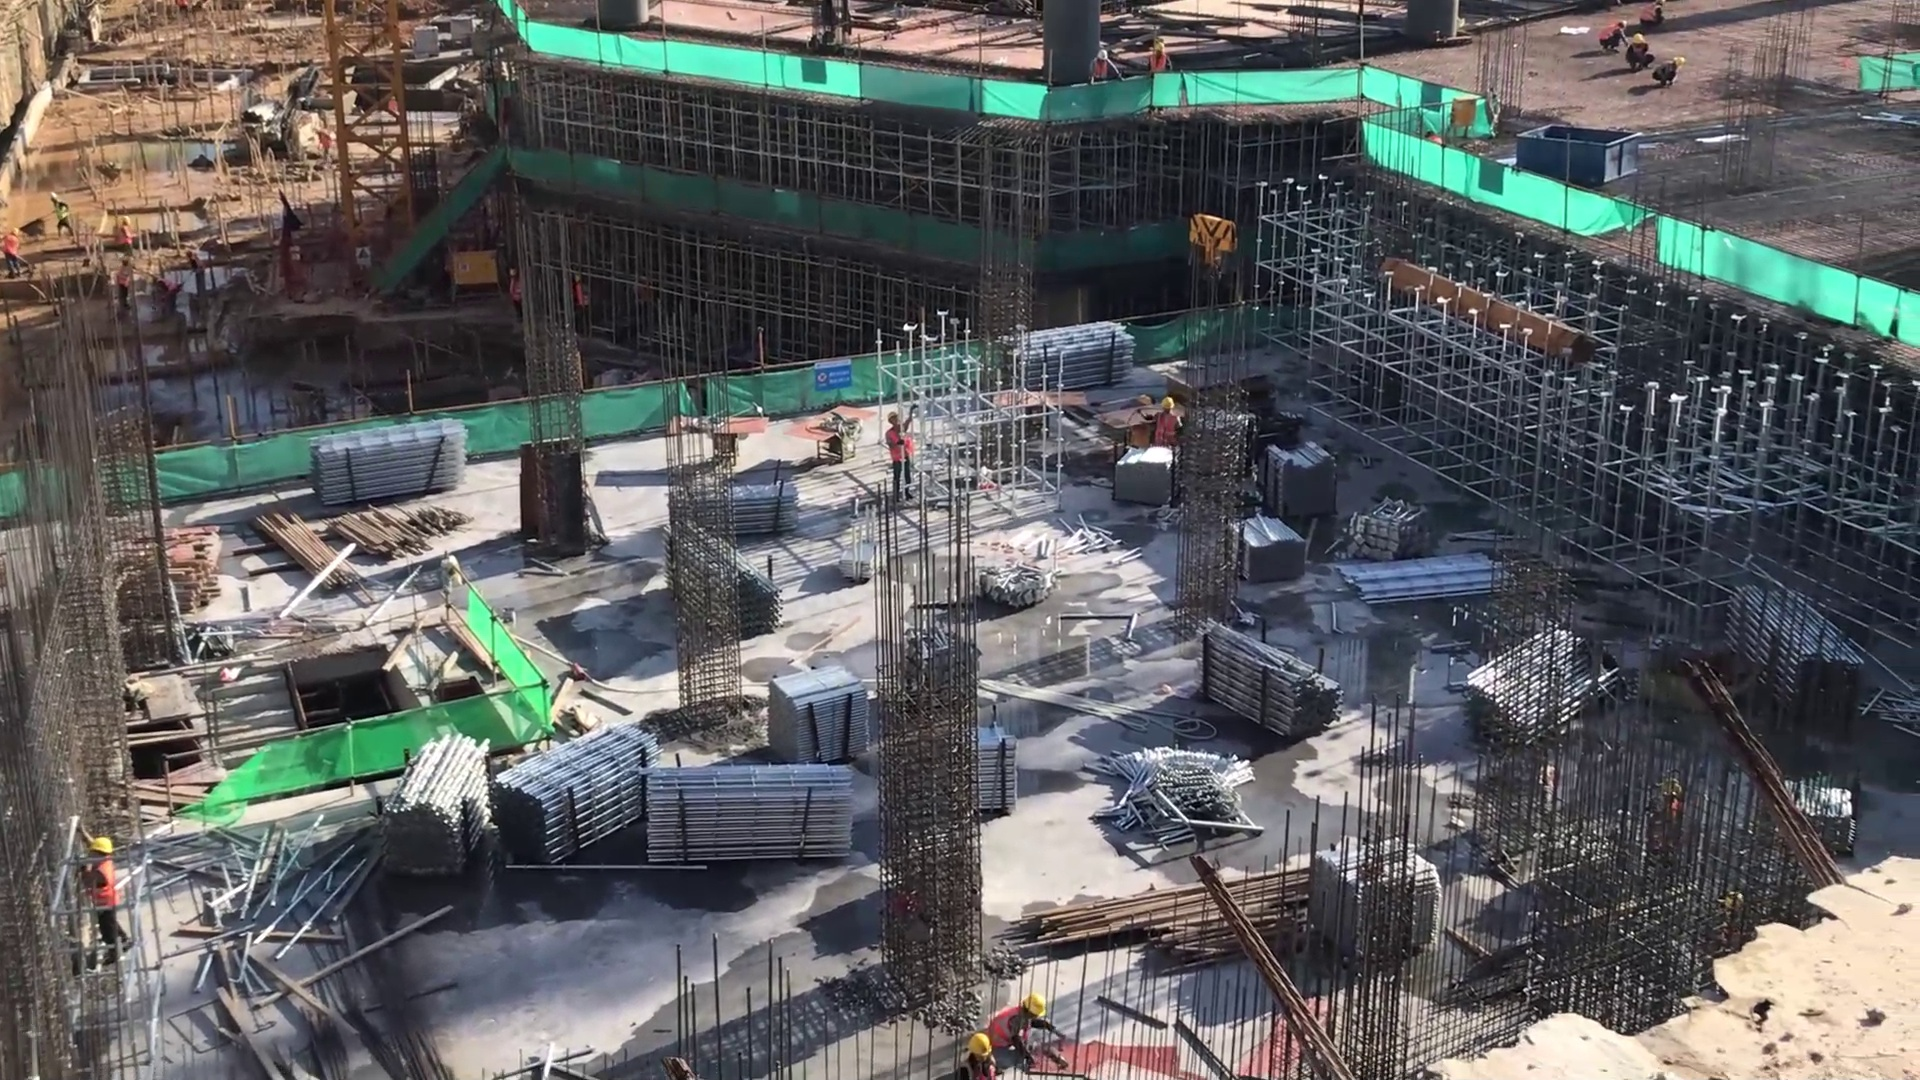cutter: (780, 400, 878, 467), (668, 409, 776, 470)
ebox: (441, 240, 498, 305)
helmet: (1017, 984, 1052, 1025), (961, 1029, 994, 1060), (84, 837, 121, 859), (1159, 394, 1179, 414), (888, 405, 906, 425)
hook: (1174, 205, 1246, 305)
hopper: (1510, 117, 1643, 190)
person: (68, 817, 140, 969), (980, 978, 1057, 1078), (882, 404, 923, 503), (945, 1028, 1005, 1080), (1149, 389, 1188, 454)
scaffold: (490, 714, 668, 875), (645, 760, 865, 881), (376, 725, 503, 878), (1189, 615, 1344, 739), (303, 409, 477, 514), (765, 659, 873, 781), (1018, 307, 1145, 391), (1266, 431, 1344, 535), (1232, 506, 1310, 589), (729, 470, 808, 546), (1111, 438, 1177, 514)
vest: (82, 860, 126, 915), (990, 1006, 1035, 1047), (884, 423, 917, 465), (957, 1056, 1001, 1080), (1154, 412, 1180, 448)
